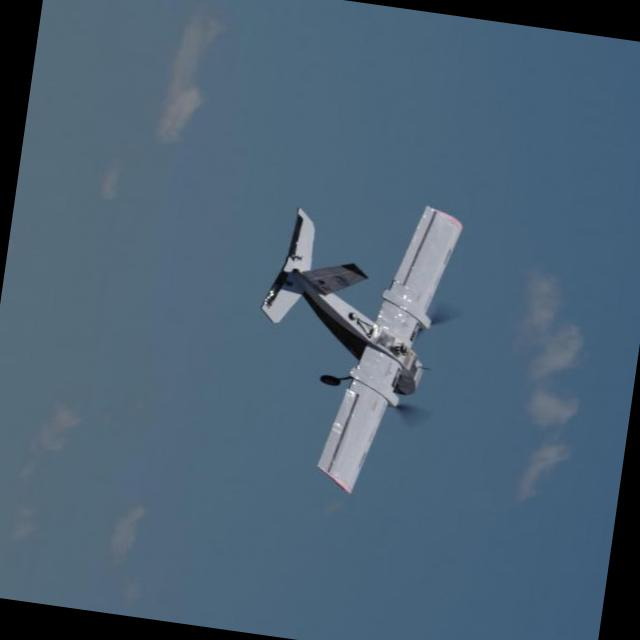UAV: (224, 162, 489, 504)
